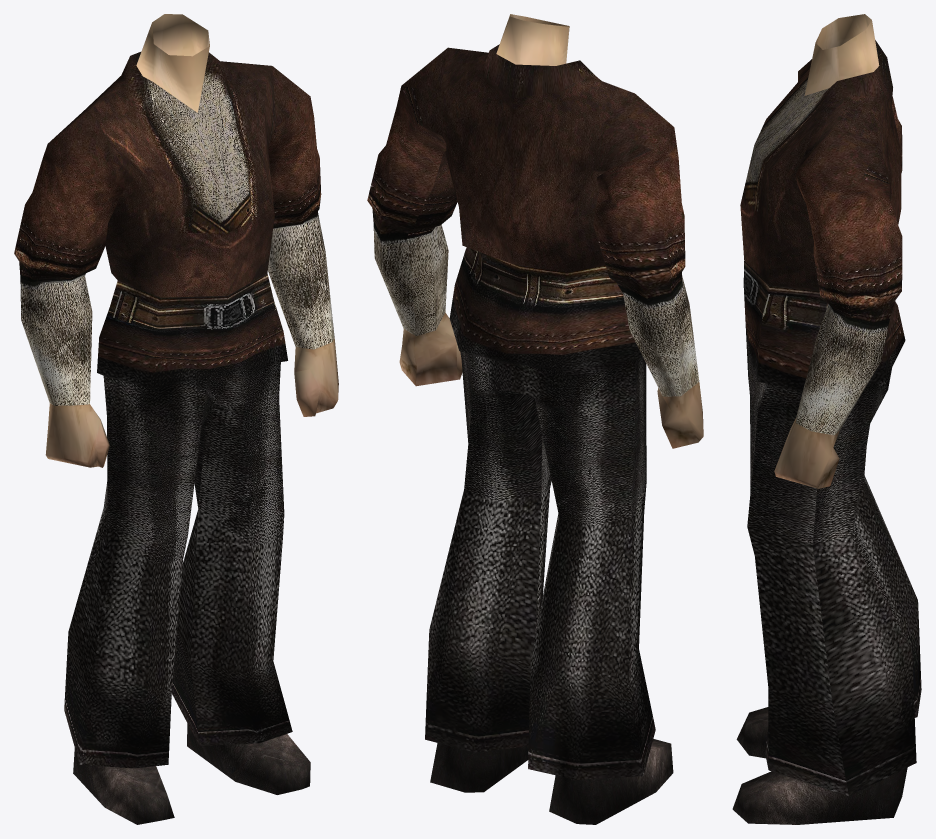
The model's file is GS_ARMOR_LEATHER_L_01.glb.
3 renders of one model, left to right at view 1: azimuth 30°, elevation 25°; view 2: azimuth 150°, elevation 25°; view 3: azimuth 270°, elevation 25°, orthographic. The views are drawn at different scales.
Parts seen in each view (by area): view 1: GS_ARMOR_LEATHER_L_01; view 2: GS_ARMOR_LEATHER_L_01; view 3: GS_ARMOR_LEATHER_L_01.
Part boxes in pixels (box(x1,y1,x2,y2)): GS_ARMOR_LEATHER_L_01: box(14, 14, 338, 824); GS_ARMOR_LEATHER_L_01: box(367, 14, 703, 824); GS_ARMOR_LEATHER_L_01: box(732, 14, 921, 824).
Bounding box in the file's own units: 0.6898 × 1.68 × 0.3778.
2 materials, 2 textured.
